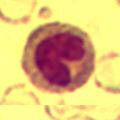monocyte: (18, 20, 97, 93)
